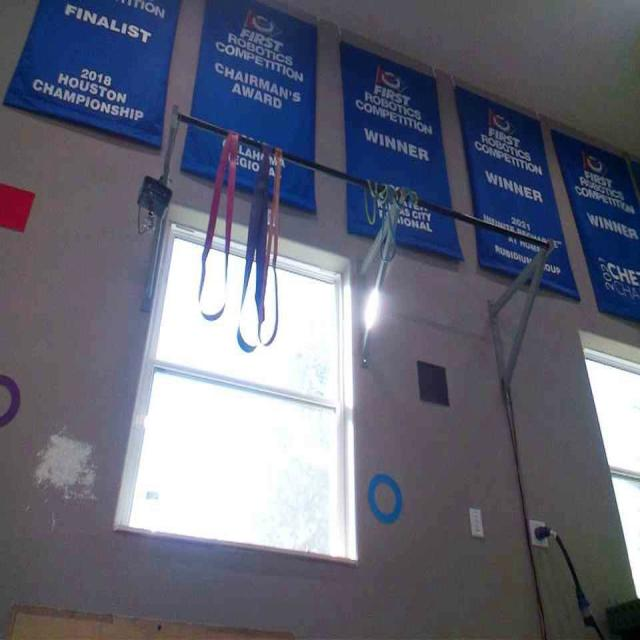ring_blue: (367, 473, 402, 523)
square_black: (417, 358, 449, 404)
square_red: (0, 179, 36, 232)
